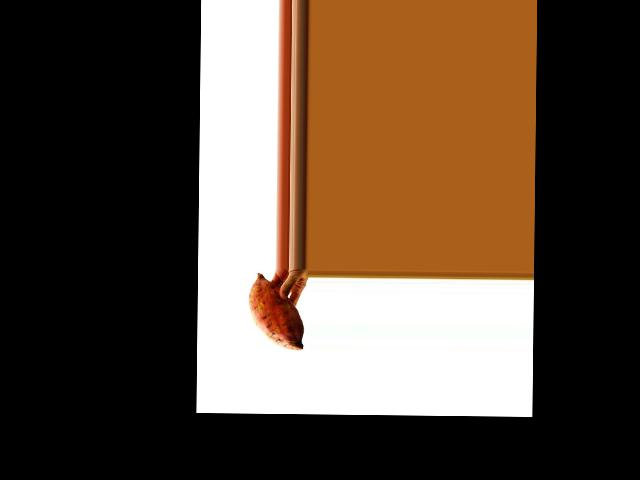sweet_potato: (243, 275, 306, 352)
